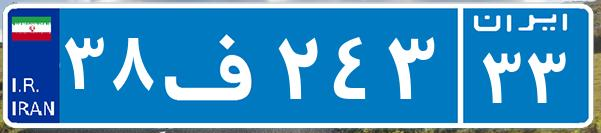2: (273, 28, 330, 110)
3: (385, 28, 445, 110), (57, 26, 110, 107), (475, 38, 525, 113), (525, 38, 570, 115)
4: (330, 28, 385, 110)
8: (110, 28, 158, 105)
ف: (158, 15, 273, 115)
